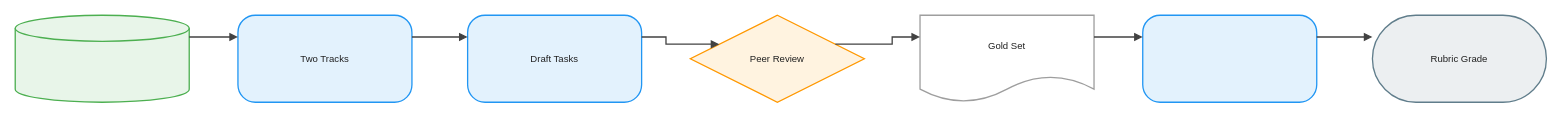
The diagram is 1563 pixels wide and 118 high, and some of its shapes have lost their labels. The shapes that lost their labels are listed below. From the top down, each one's centre as x and y in pixels, then its label:
the point at 101,58: Expert Pool
the point at 1229,58: Model Answer
